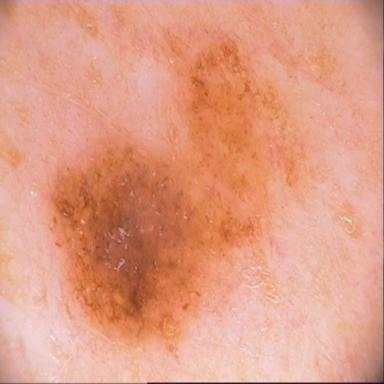nevus: (49, 27, 305, 350)
